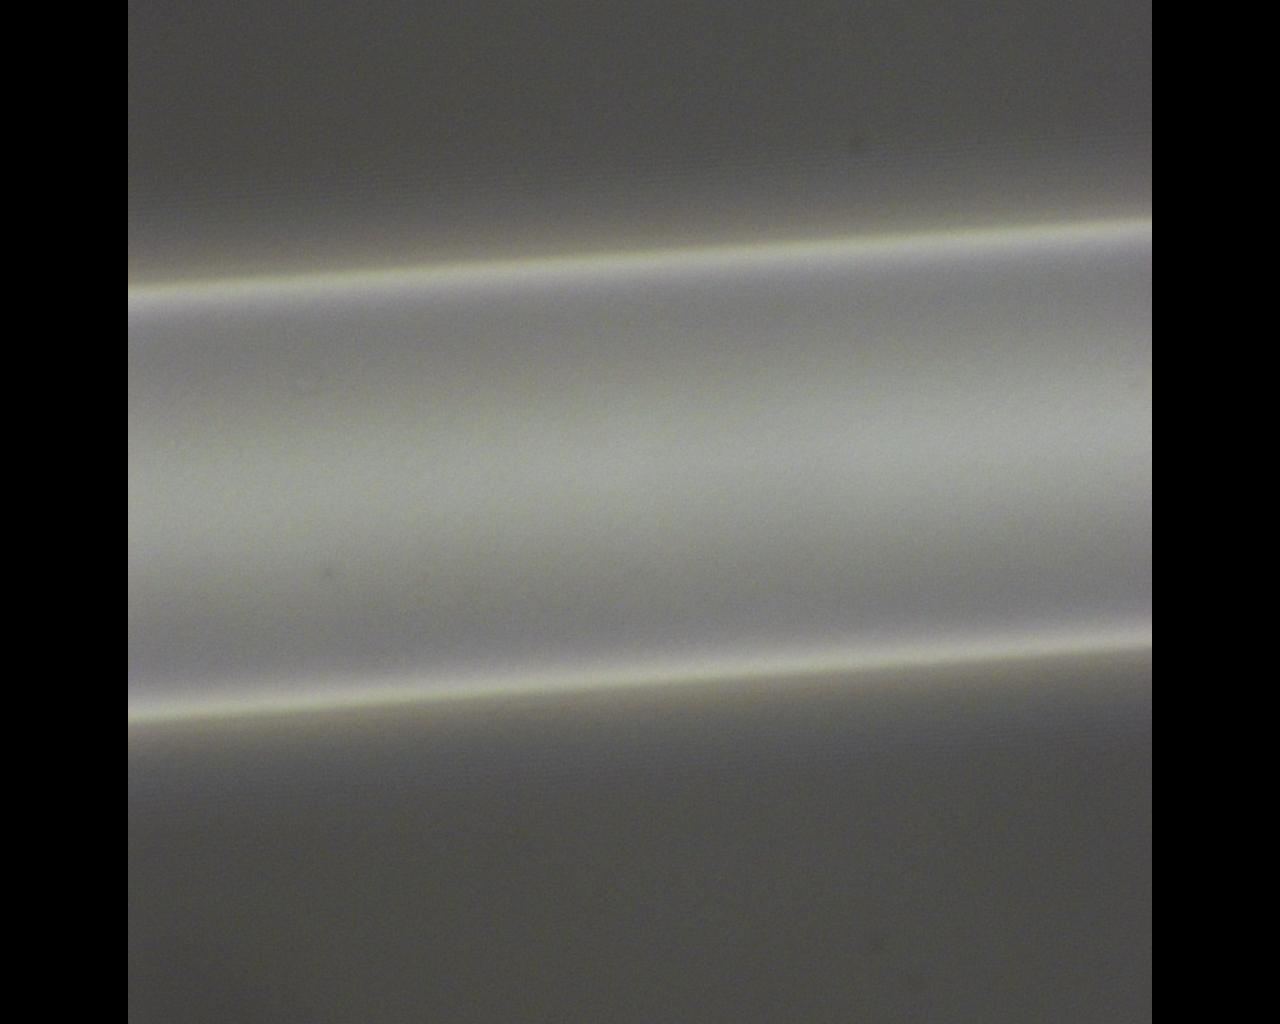fiber: (128, 220, 1152, 727)
